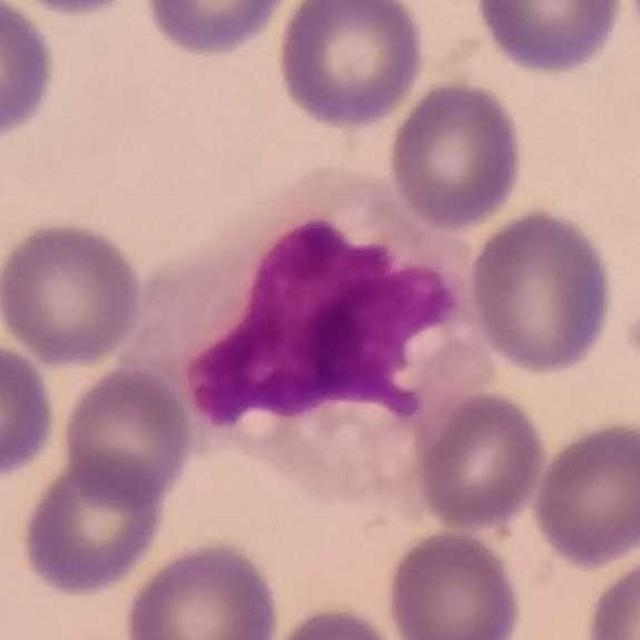mono: (114, 162, 500, 503)
